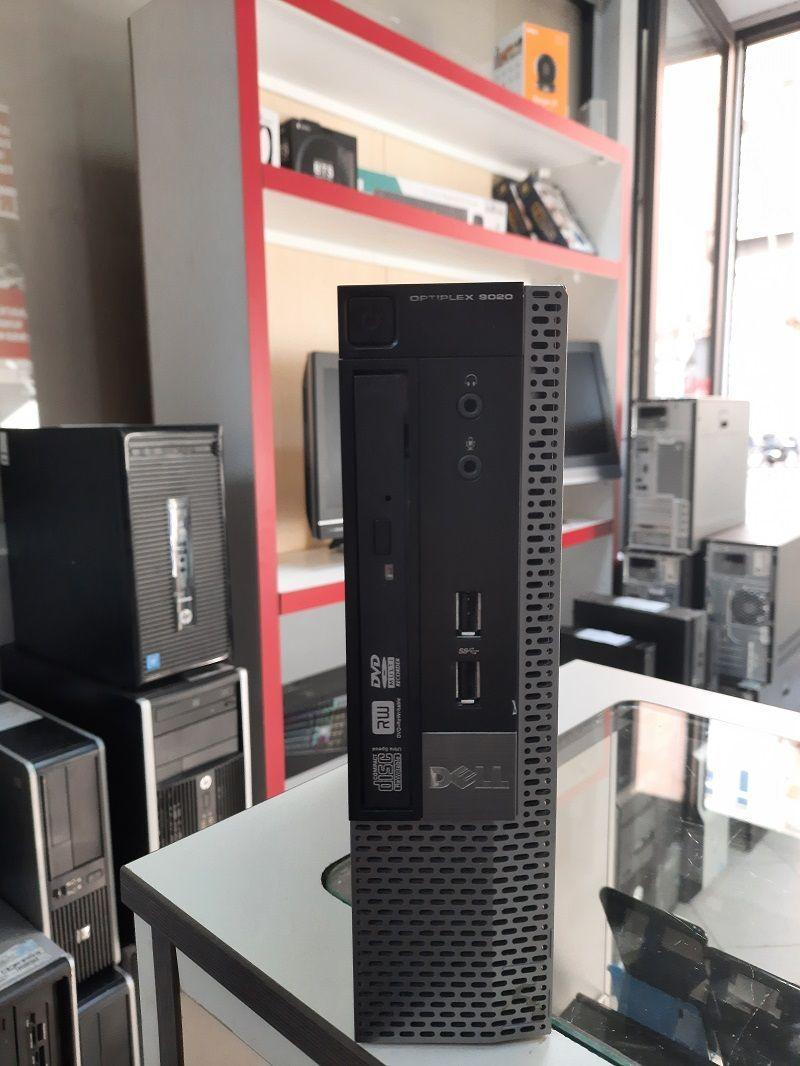DESKTOP PC: (339, 286, 557, 1041), (4, 427, 226, 670), (0, 693, 114, 965), (118, 664, 249, 856), (632, 396, 742, 532), (710, 527, 800, 680), (0, 952, 70, 1066), (74, 969, 140, 1066)
